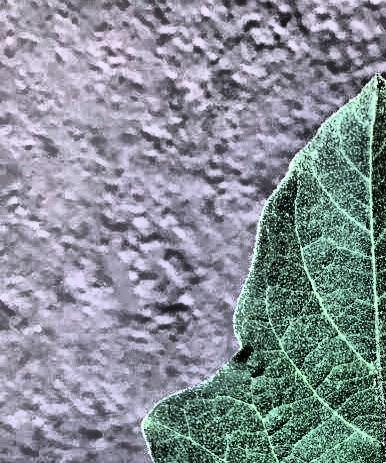HEALTHY: (1, 0, 386, 347)
